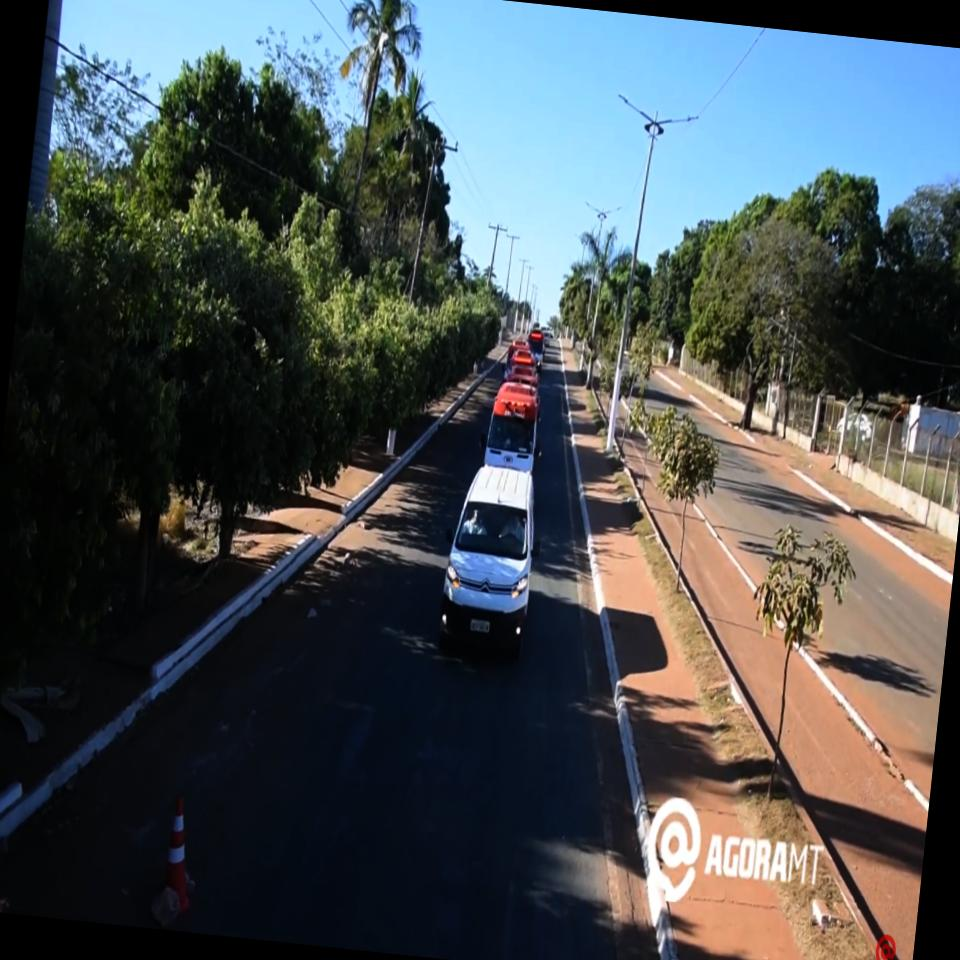bombeiro: (478, 379, 548, 473)
